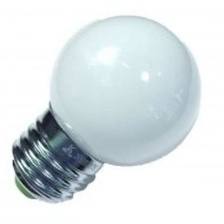light_bulb: (5, 4, 207, 210)
